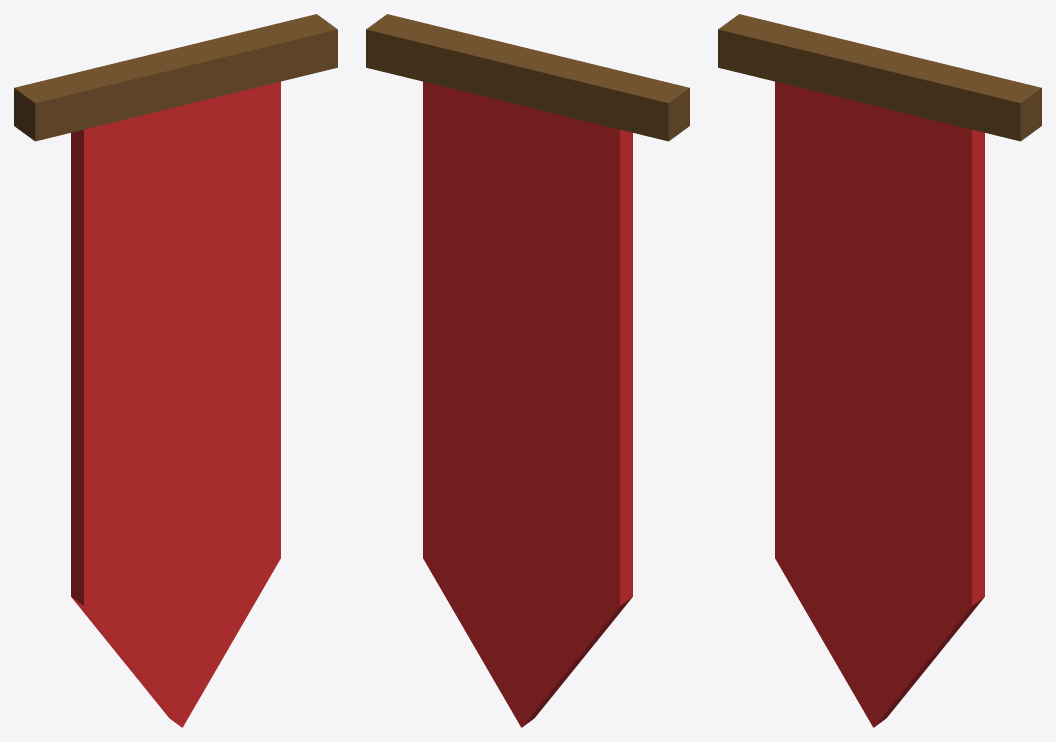
The model's file is Small_Red_Flags.fbx.
The picture shows the model from 3 angles, left to right: view 1: azimuth 30°, elevation 25°; view 2: azimuth 150°, elevation 25°; view 3: azimuth 330°, elevation 25°; orthographic projection.
Visible parts, largest first — view 1: Small_Red_Flags; view 2: Small_Red_Flags; view 3: Small_Red_Flags.
Part boxes in pixels (x1,y1,x2,y2): Small_Red_Flags: (14,14,337,727); Small_Red_Flags: (366,14,689,727); Small_Red_Flags: (718,14,1041,727).
Bounding box in the file's own units: 127 × 266 × 15.31.
